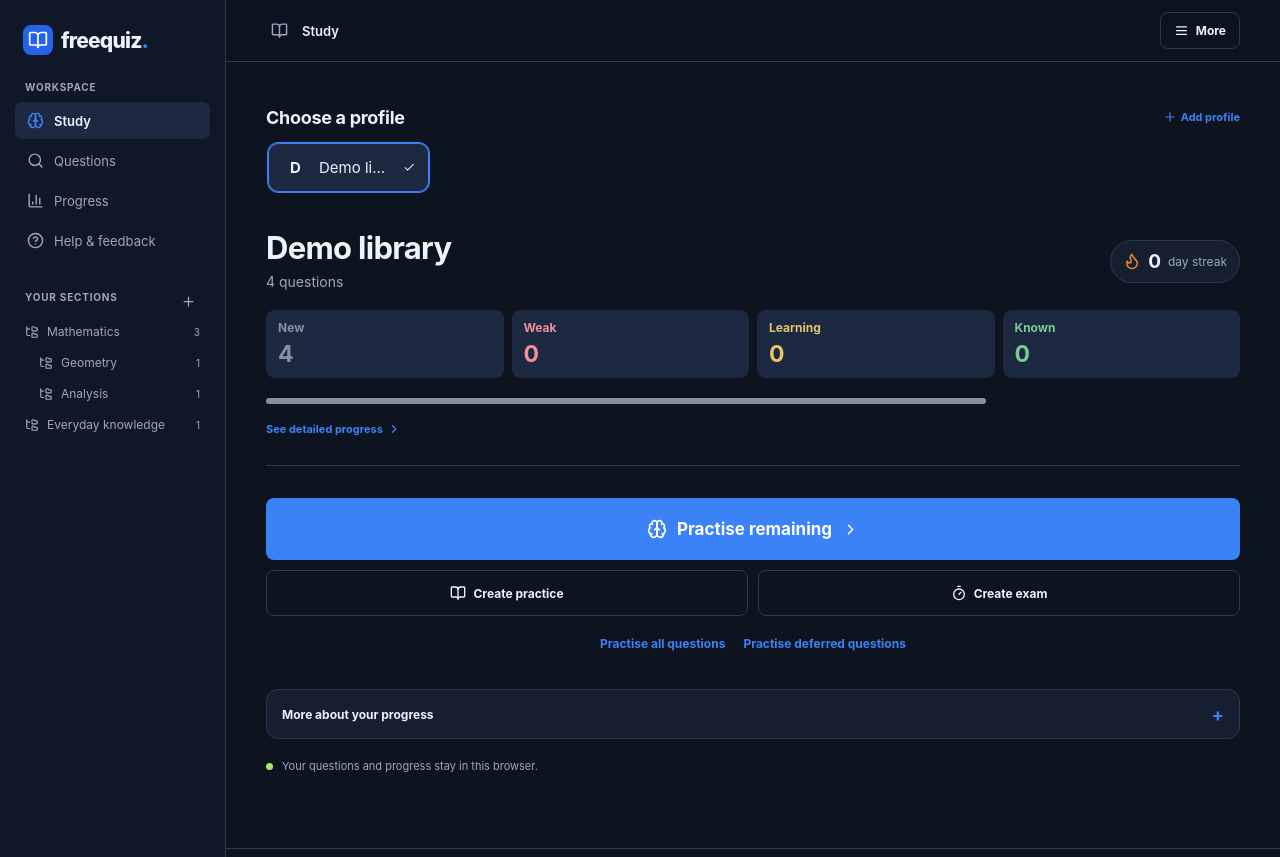
Test case: AI prompt UI and editable tags › offers extraction and generation prompt modes
This screenshot has width=1280, height=857.
Click the button with aria-label "Menu" at (1200, 30), box [1160,12,1240,49]
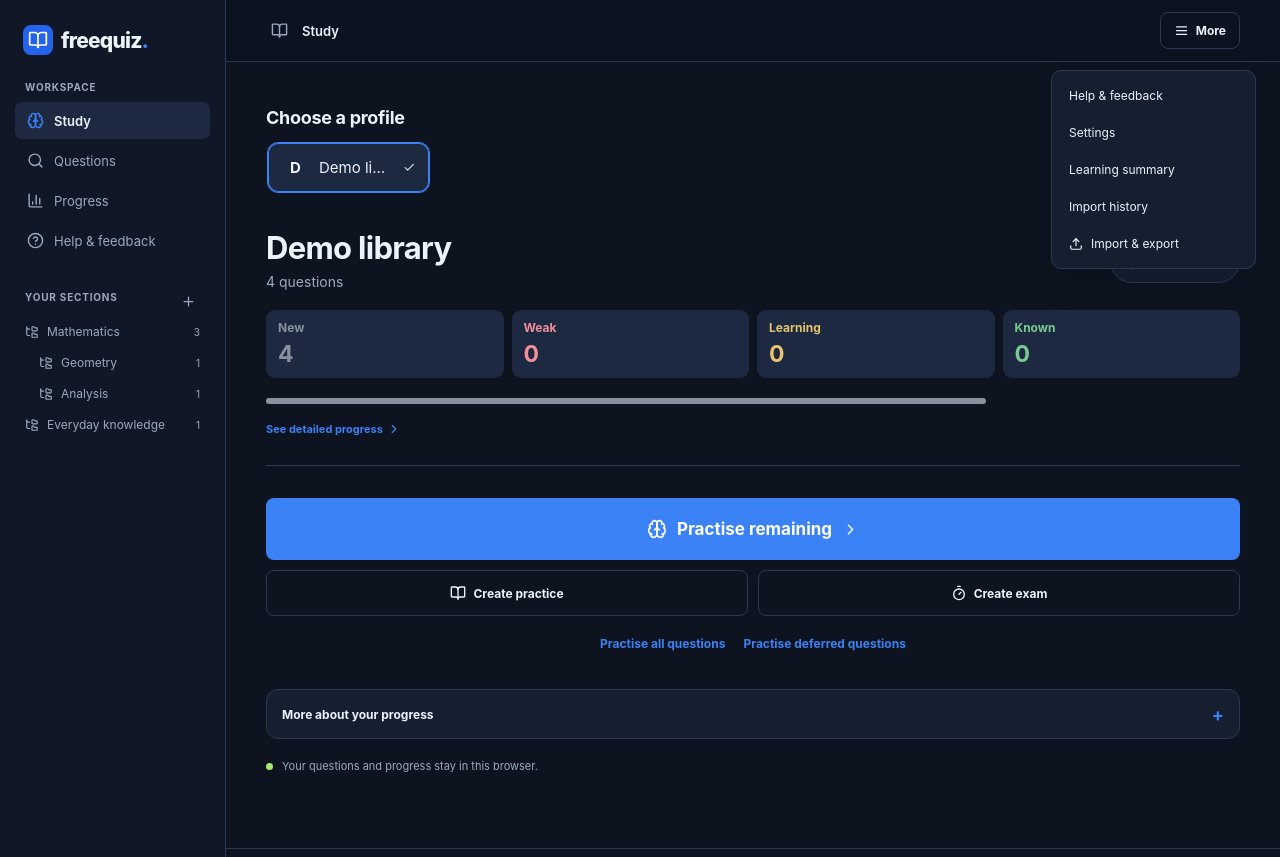
Click the button "Import & export" at (1146, 244), box [1059,226,1233,261]
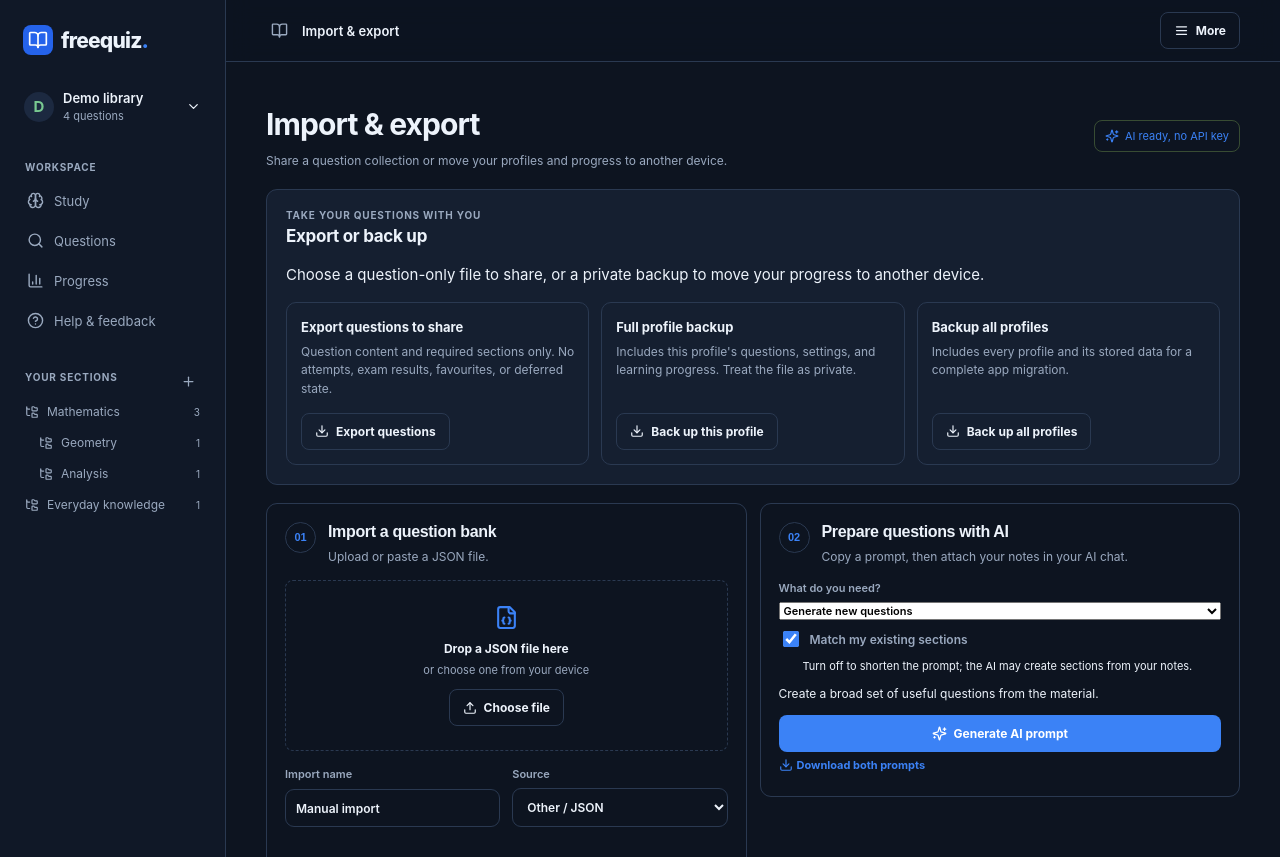
Now the dropdown named "AI prompt mode" shows "Generate new questions"
Select "Extract existing questions" in the dropdown named "AI prompt mode" at (1000, 612), box [778,602,1221,620]
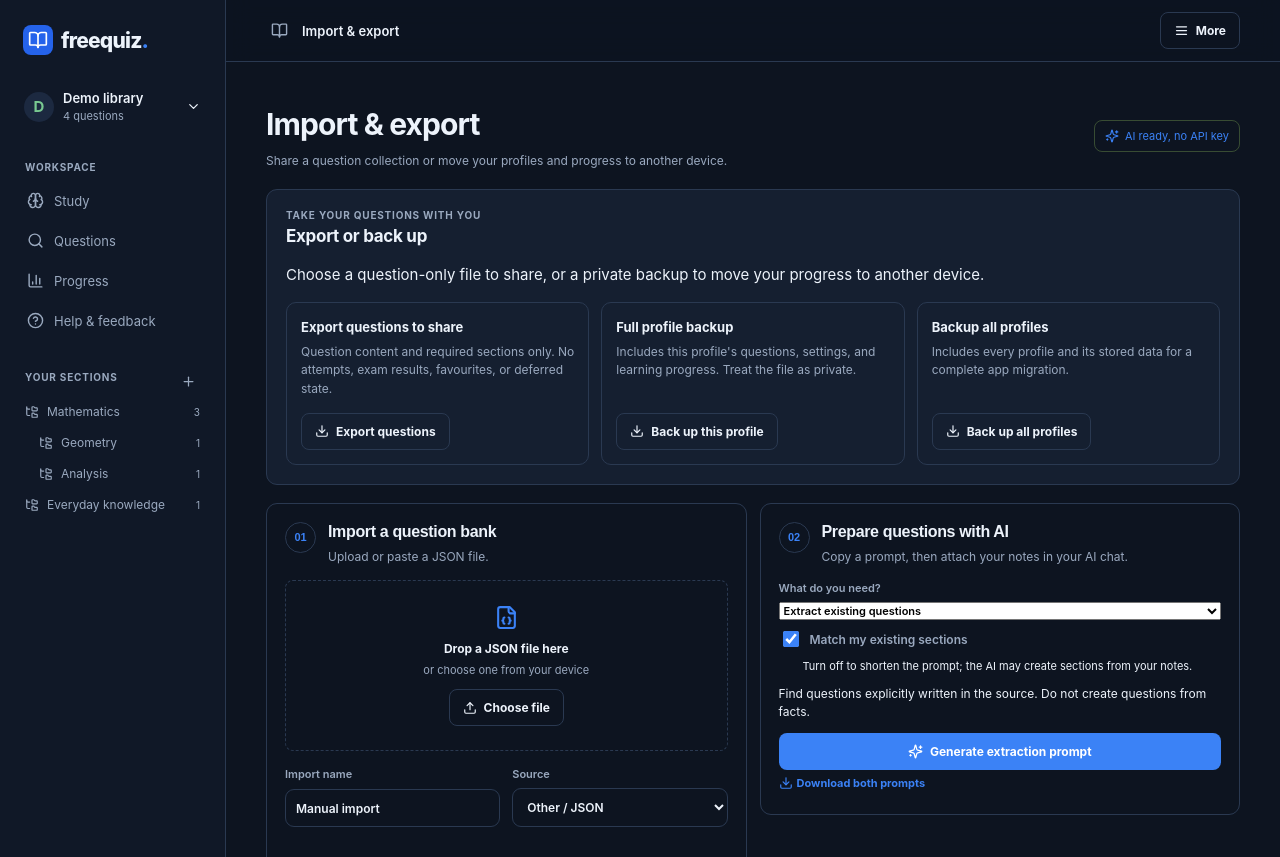
Click the button "Generate extraction prompt" at (1000, 752), box [778,733,1221,770]
(page scrolled)
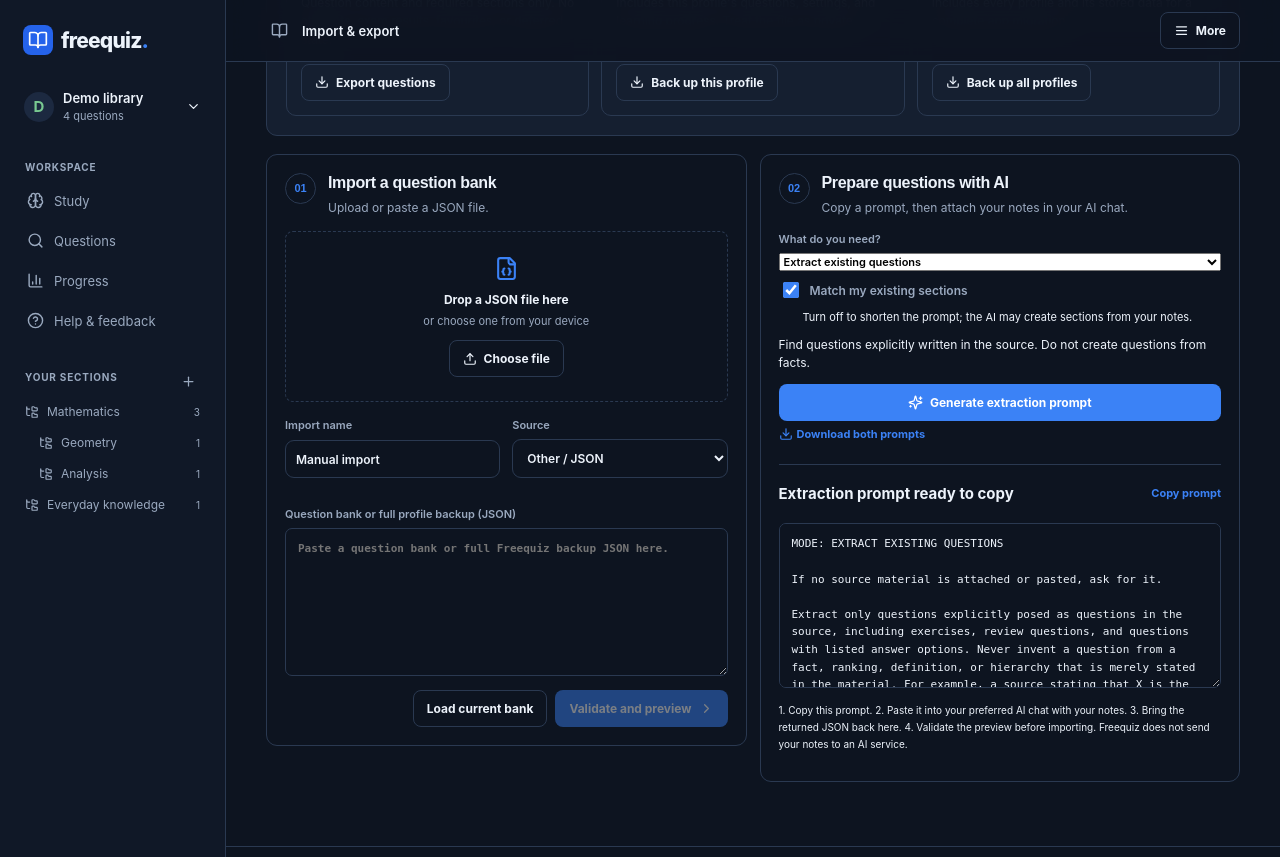
Now the text box showing "AI-Extracted" is shown, box [778,523,1221,688]
